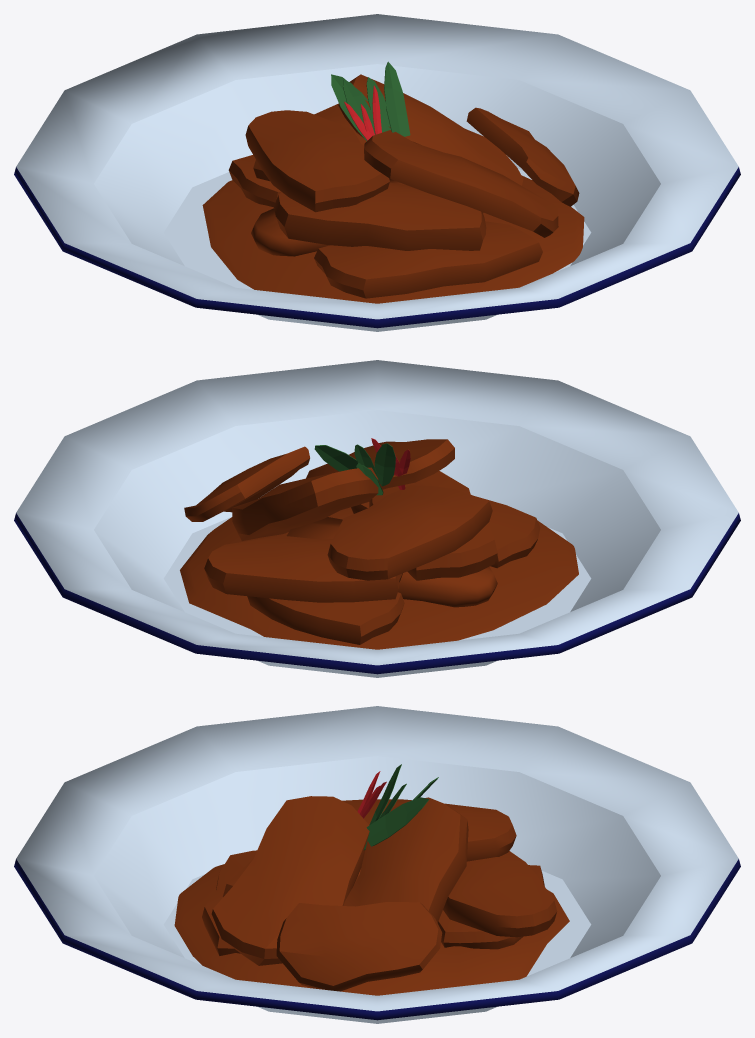
File: rendang.fbx
The picture shows the model from 3 angles, top to bottom: view 1: azimuth 30°, elevation 25°; view 2: azimuth 150°, elevation 25°; view 3: azimuth 270°, elevation 25°; orthographic projection.
Visible parts, largest first — view 1: rendang; view 2: rendang; view 3: rendang.
Boxes of the visible parts, x1,y1,x2,y2 form: rendang: [14, 14, 740, 331]; rendang: [14, 360, 740, 677]; rendang: [14, 706, 740, 1023].
Bounding box in the file's own units: 51.39 × 12.32 × 51.39.
